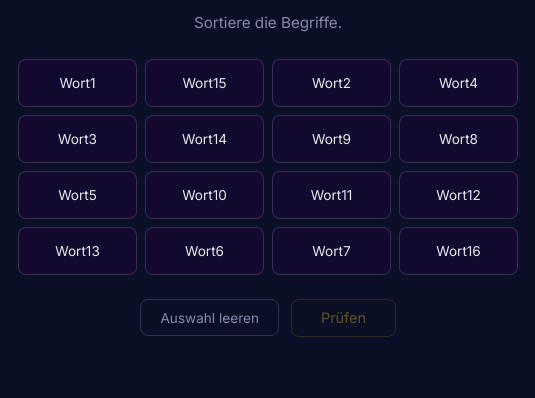
Connections › shows error for wrong group
Select mixed words
Step 1. Click the button "Wort1" → {"x": 78, "y": 83}, box x1=18 y1=59 x2=137 y2=107
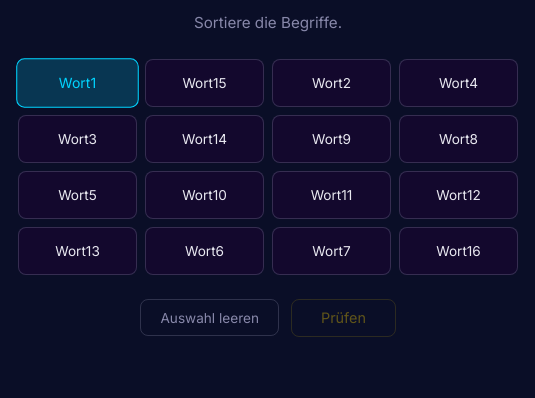
Step 2. Click the button "Wort5" → {"x": 78, "y": 195}, box x1=18 y1=171 x2=137 y2=219
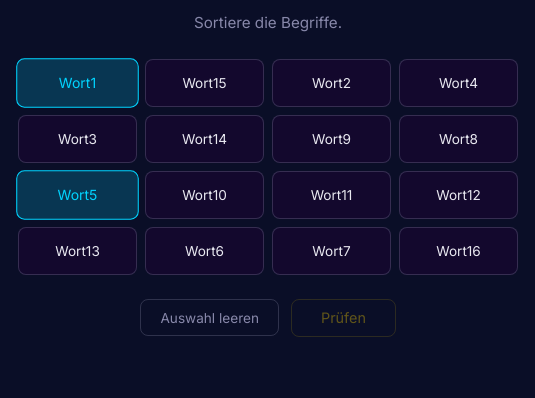
Step 3. Click the button "Wort9" → {"x": 332, "y": 139}, box x1=272 y1=115 x2=391 y2=163
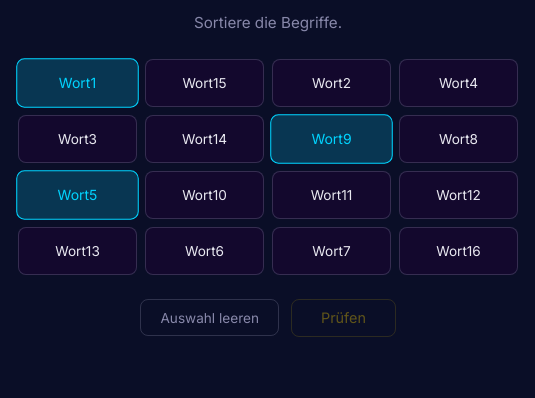
Step 4. Click the button "Wort13" → {"x": 78, "y": 251}, box x1=18 y1=227 x2=137 y2=275
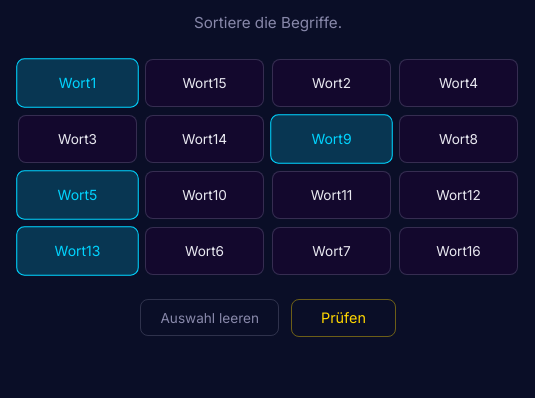
Step 5. Click the button "Prüfen" → {"x": 343, "y": 318}, box x1=291 y1=299 x2=396 y2=337
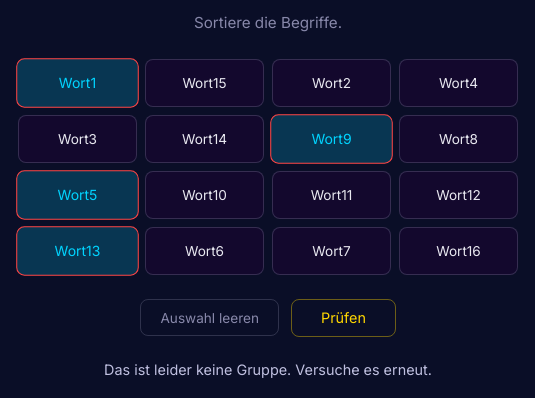
Now the text "Das ist leider keine Gruppe. Versuche es erneut." is shown, box x1=104 y1=361 x2=432 y2=381
